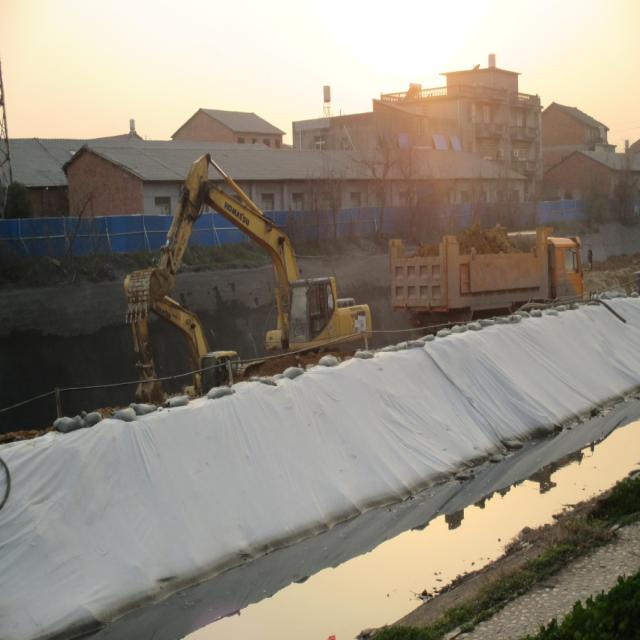excavator: (124, 152, 373, 382), (131, 295, 242, 405)
truck: (388, 227, 591, 339)
